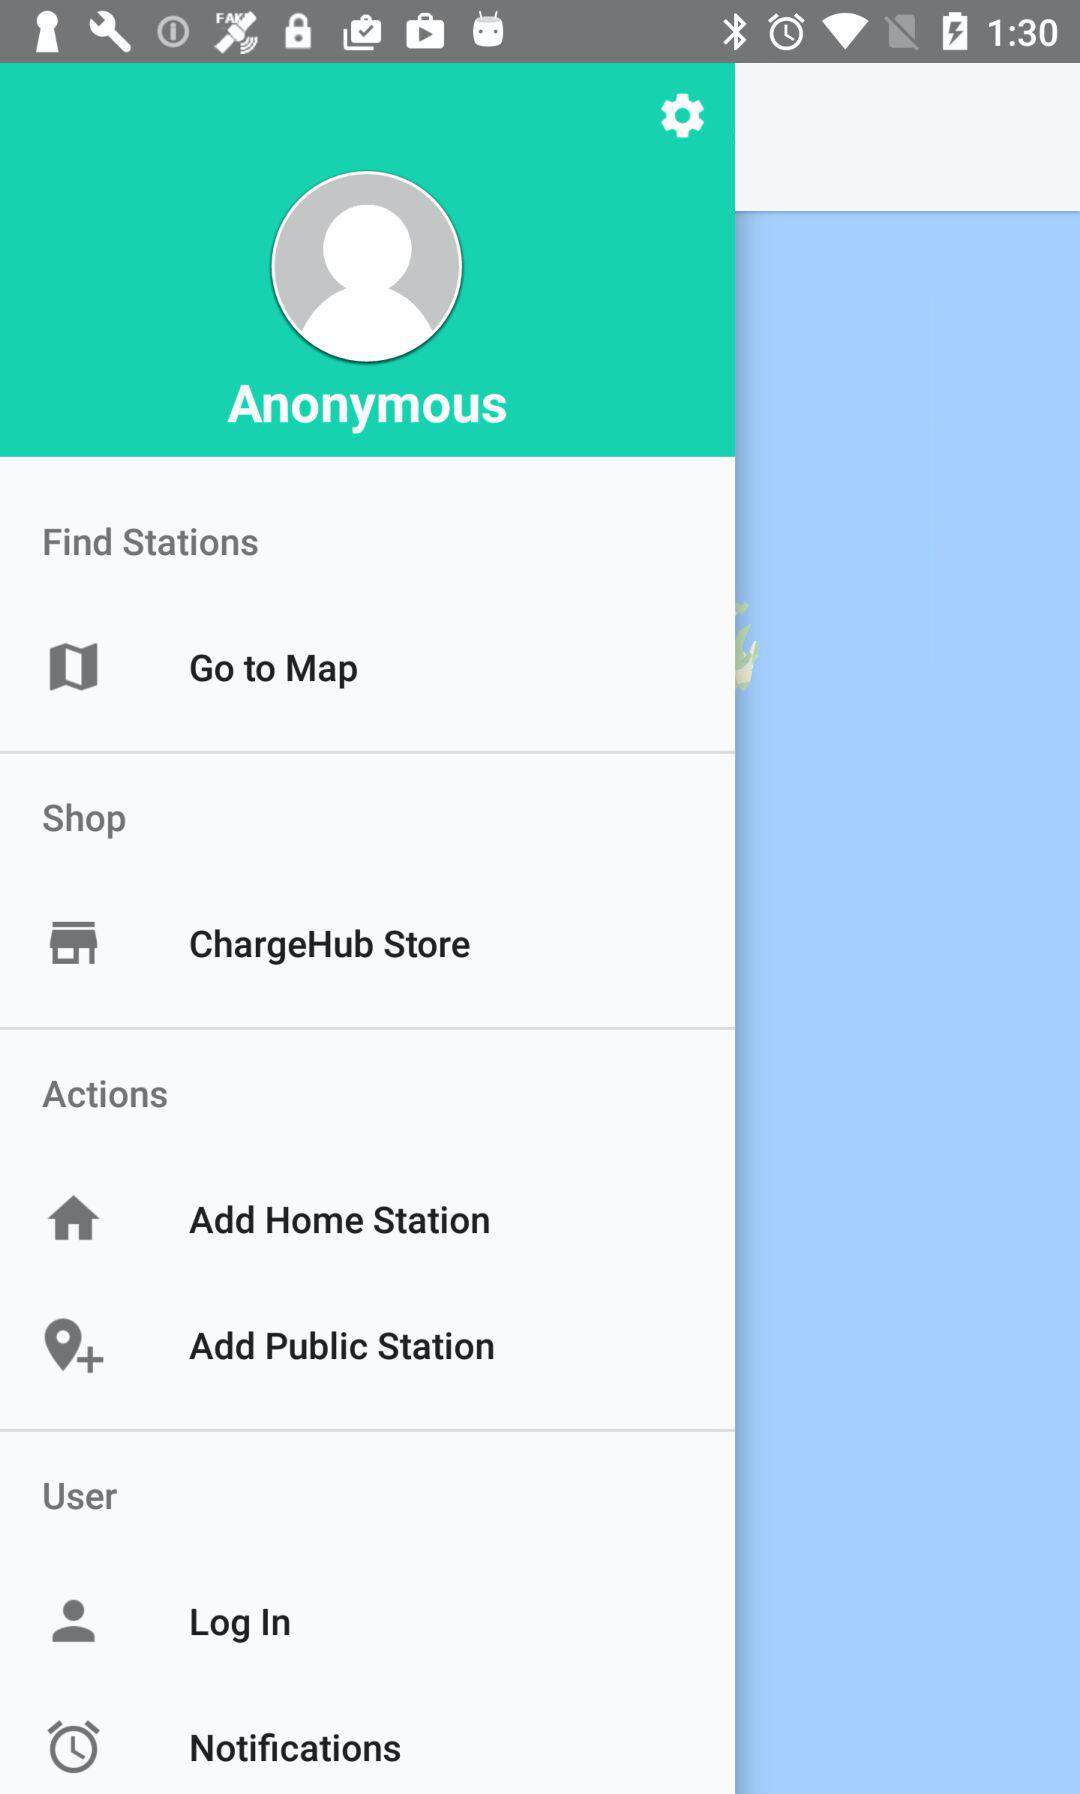Drawer: (1, 64, 735, 1793)
Icon: (269, 170, 465, 365), (44, 1317, 106, 1375), (47, 1718, 102, 1773), (49, 642, 100, 693), (47, 1194, 101, 1242), (660, 94, 705, 140), (53, 1598, 97, 1643)
Image: (49, 921, 100, 966)
Text: (227, 384, 509, 436), (190, 928, 471, 967), (188, 1328, 495, 1362), (190, 1205, 491, 1237), (44, 525, 263, 559), (190, 1731, 404, 1763), (190, 654, 360, 691), (42, 1079, 170, 1111), (190, 1606, 292, 1645), (44, 802, 128, 841), (44, 1481, 119, 1511)
UpperTaskBar: (1, 1, 1080, 64)
